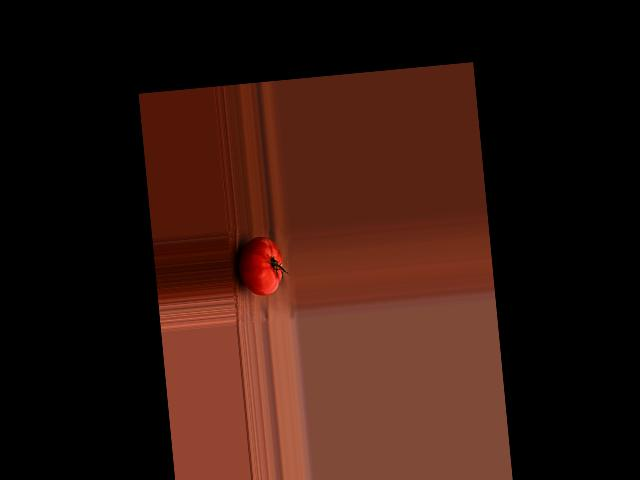tomato: (235, 235, 285, 298)
